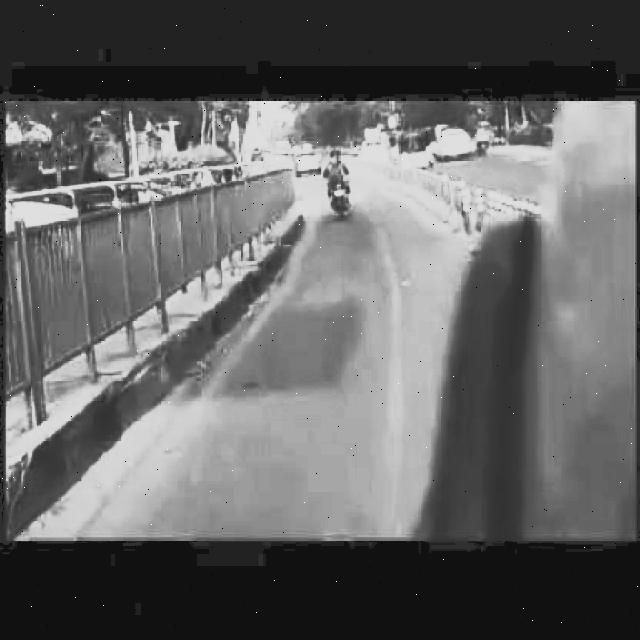Car: (282, 134, 336, 183), (354, 129, 399, 169), (431, 123, 472, 159)
